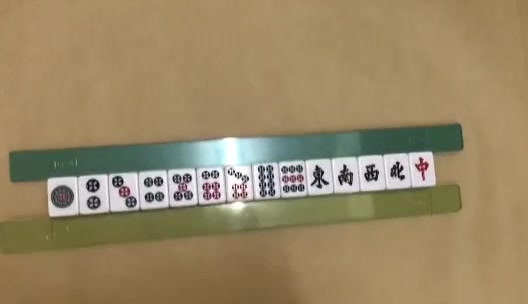1p: (50, 185, 75, 208)
1z: (310, 165, 328, 190)
2p: (86, 179, 100, 209)
2z: (337, 163, 354, 185)
3p: (112, 176, 136, 207)
3z: (363, 164, 381, 182)
4p: (144, 177, 163, 202)
4z: (390, 162, 406, 181)
5p: (172, 174, 193, 200)
6p: (201, 171, 220, 200)
7p: (228, 169, 250, 199)
7z: (415, 157, 429, 181)
8p: (258, 166, 276, 198)
9p: (282, 165, 304, 194)
